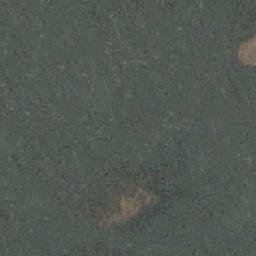debris: (99, 190, 158, 224), (237, 35, 256, 68)
